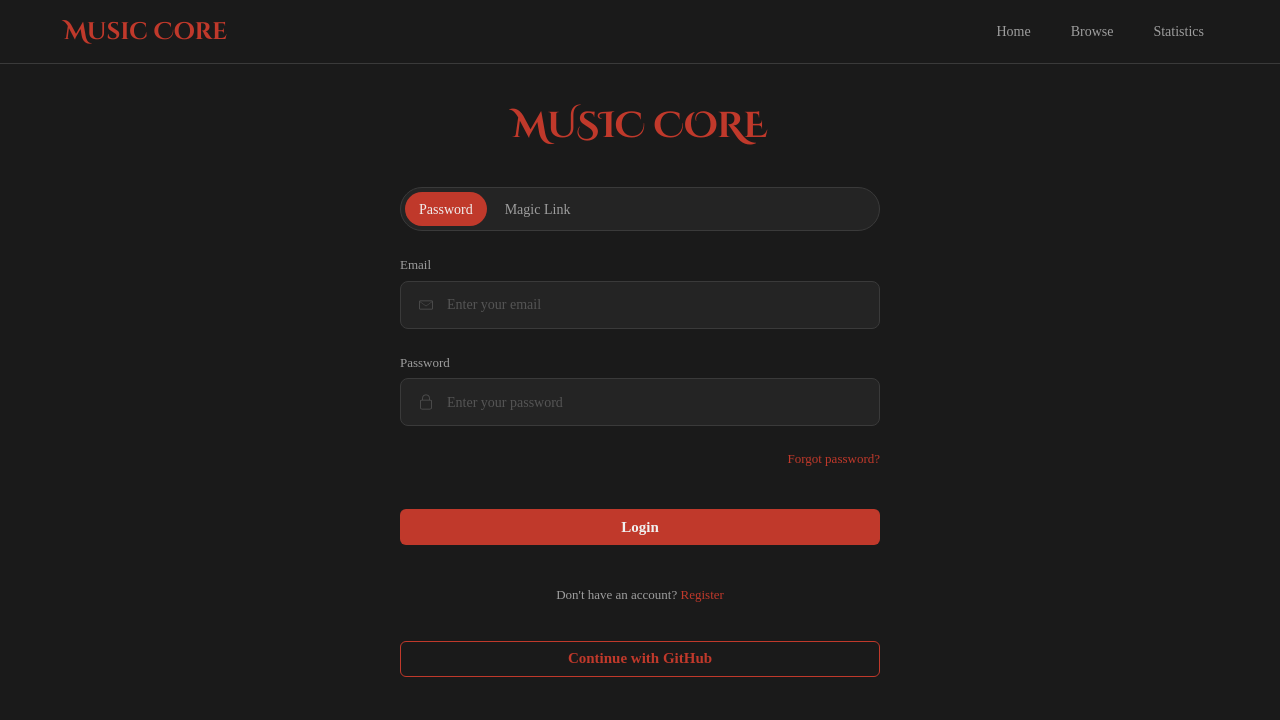
Test: LoginPage › routes to forgot-password page from the link
Click the link "Forgot password?": click(834, 458) left=787, top=451, right=880, bottom=466
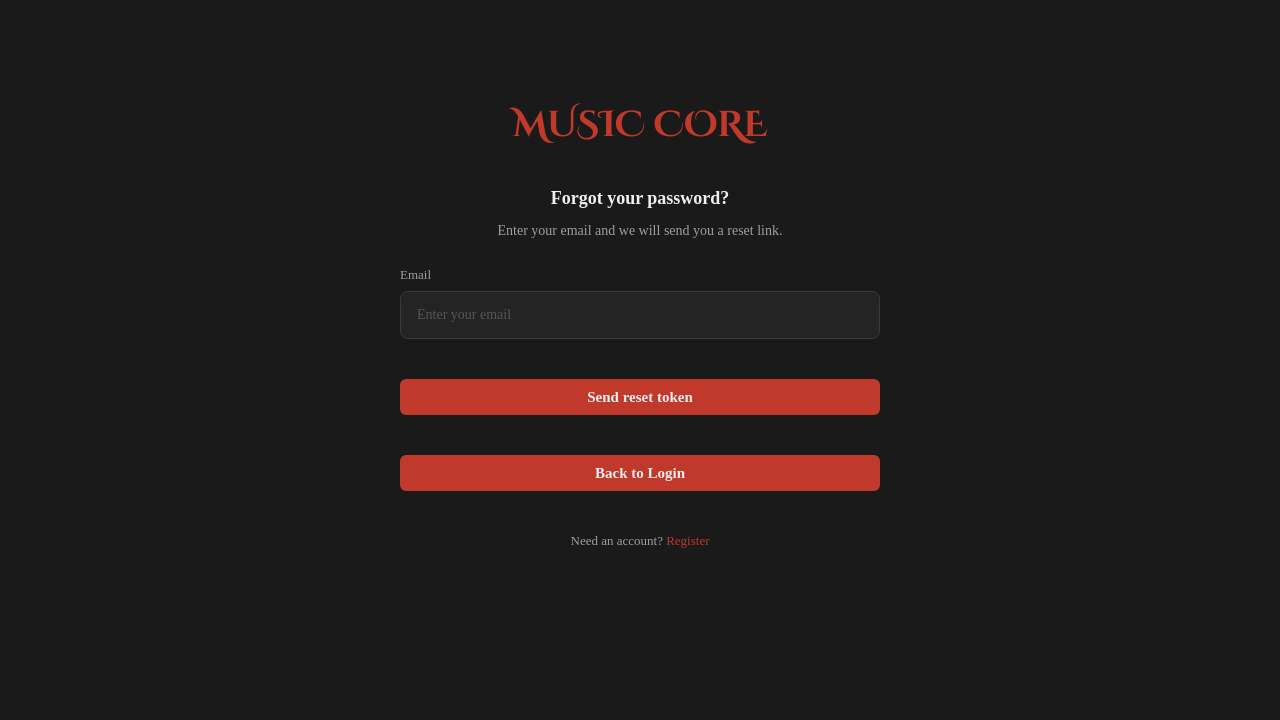
Check: the heading "Forgot your password?" is shown, box left=551, top=188, right=729, bottom=208
